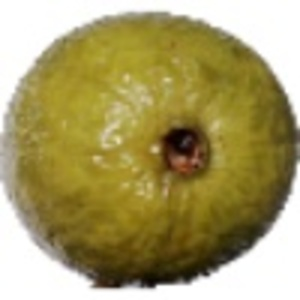goiaba: (5, 9, 296, 281)
